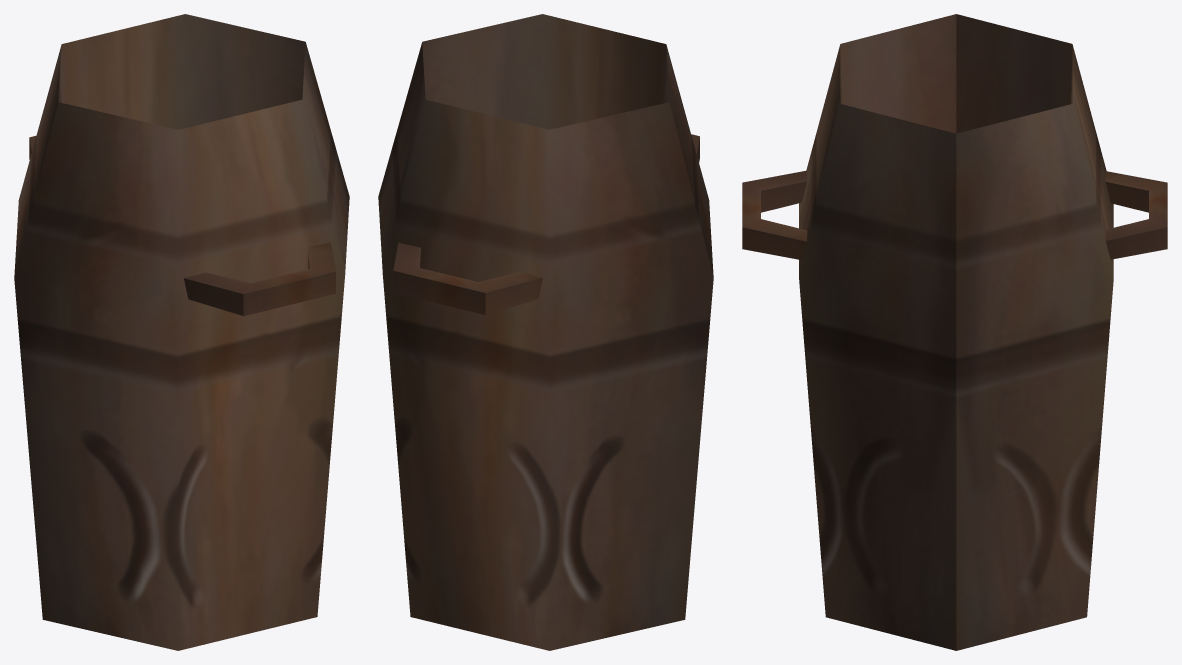
The model's file is Pot02.fbx.
3 views of the same model, side by side, from view 1: azimuth 30°, elevation 25°; view 2: azimuth 150°, elevation 25°; view 3: azimuth 270°, elevation 25° (orthographic).
Visible parts, largest first — view 1: Pot02; view 2: Pot02; view 3: Pot02.
Part boxes in pixels (<box>): Pot02: <box>14,14,349,650</box>; Pot02: <box>378,14,713,650</box>; Pot02: <box>742,14,1167,650</box>.
Size of the model in its own units: 0.6572 by 0.9621 by 0.7273.
